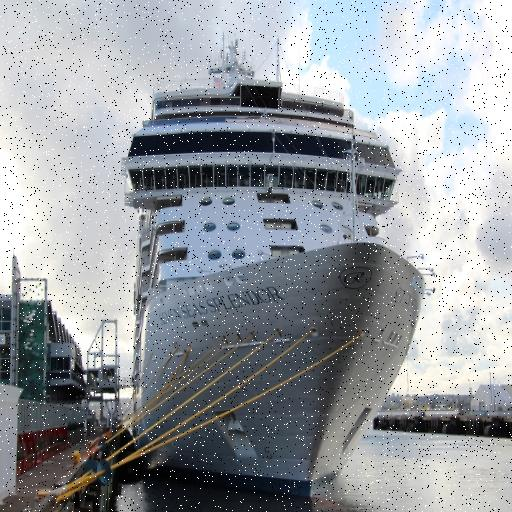cruises: (119, 27, 433, 512)
